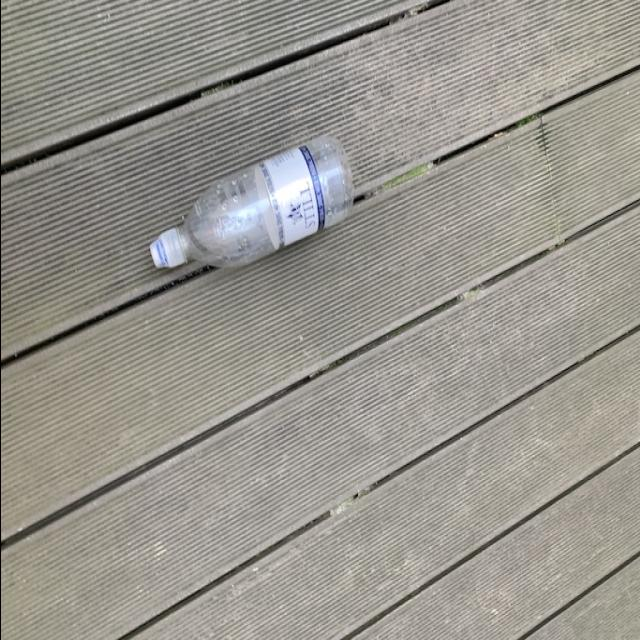PET: (146, 138, 358, 298)
